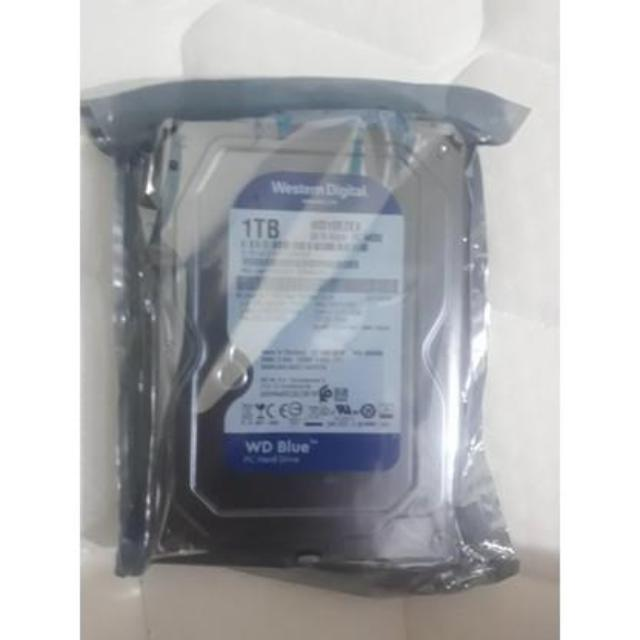DISK: (144, 125, 490, 586)
